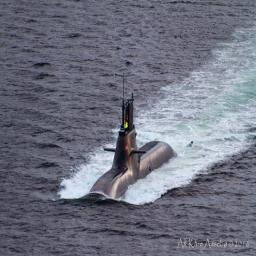submarine: (90, 74, 196, 208)
